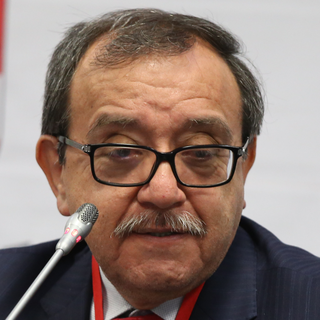eye: (177, 142, 221, 167), (101, 141, 143, 164)
